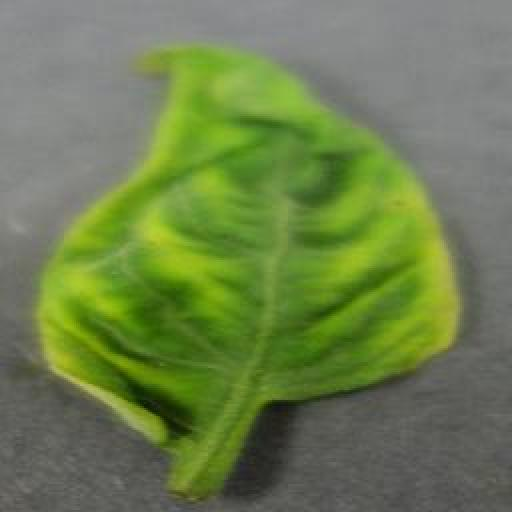Yellow Leaf Curl Virus: (39, 44, 464, 447)
